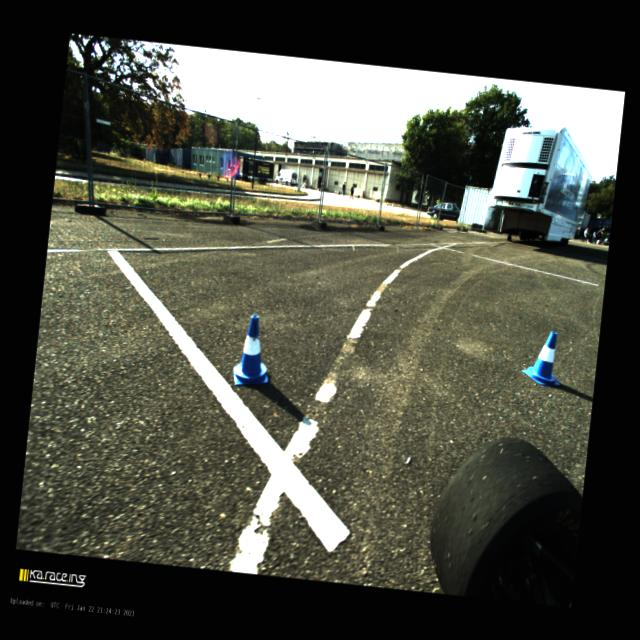blue_cone: (231, 313, 274, 388), (520, 329, 564, 386)
